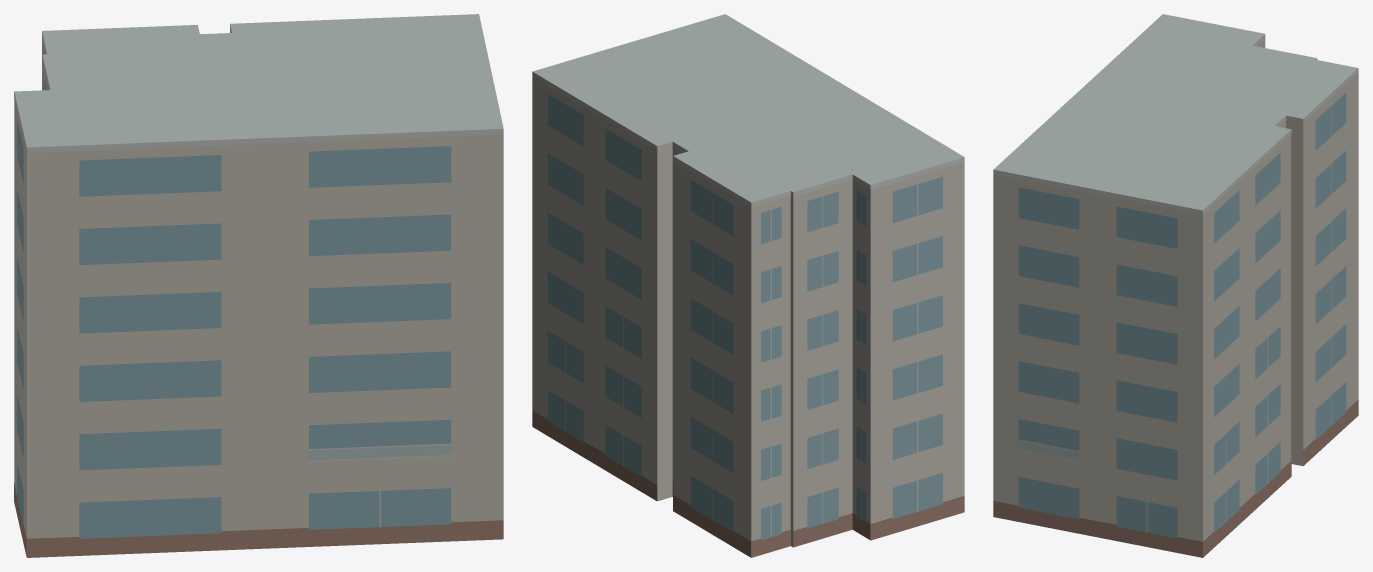
Rendered from survey-upis-32973975.glb.
The picture shows the model from 3 angles, left to right: view 1: azimuth 30°, elevation 25°; view 2: azimuth 150°, elevation 25°; view 3: azimuth 270°, elevation 25°; orthographic projection. The views are drawn at different scales.
Visible parts, largest first — view 1: survey-upis-32973975.tmp; view 2: survey-upis-32973975.tmp; view 3: survey-upis-32973975.tmp.
Boxes of the visible parts, box(x1,y1,x2,y2) form: survey-upis-32973975.tmp: box(14, 14, 503, 557); survey-upis-32973975.tmp: box(532, 14, 964, 557); survey-upis-32973975.tmp: box(993, 14, 1358, 557).
Bounding box in the file's own units: 22.21 × 18.3 × 17.45.
